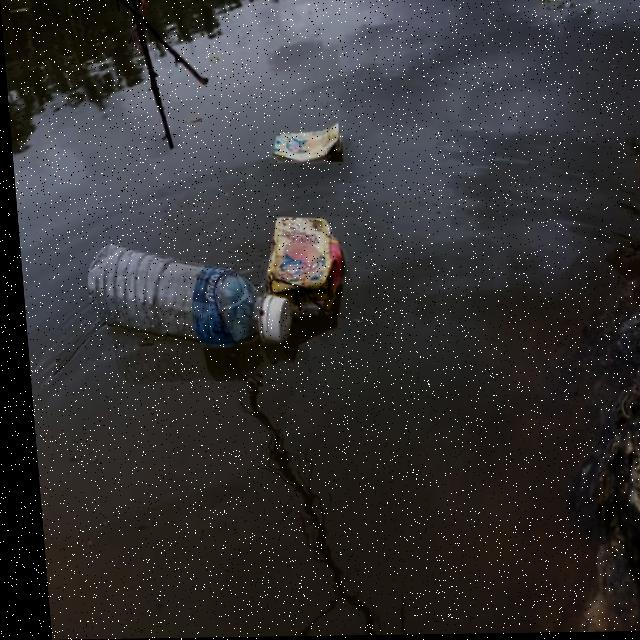paper: (261, 213, 358, 307), (241, 116, 371, 167)
waterbottle: (60, 232, 276, 372)
